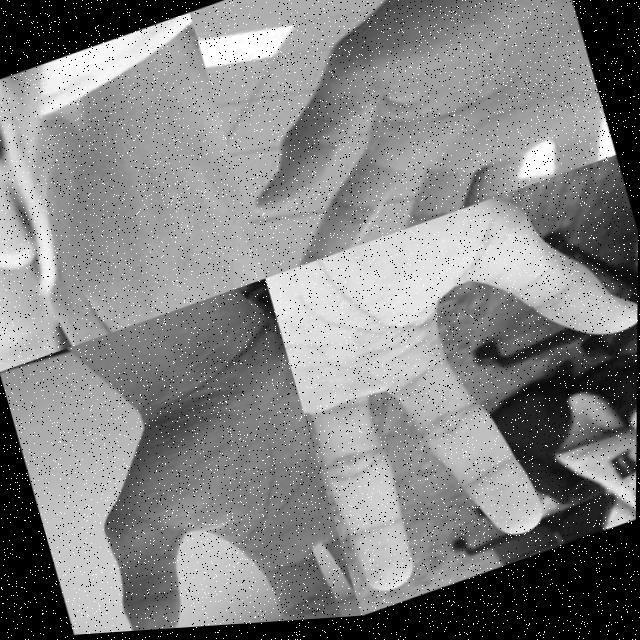no-gloves: (264, 164, 638, 612), (202, 0, 617, 283), (0, 10, 267, 353), (59, 344, 363, 637)
